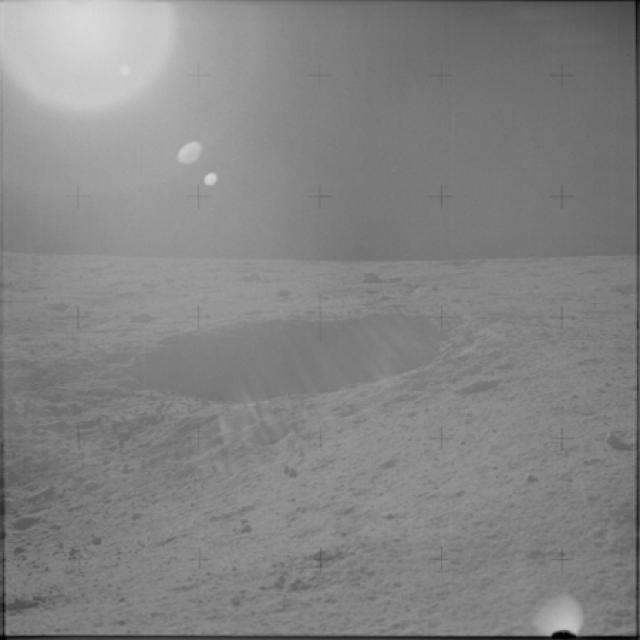crater: (108, 298, 486, 418), (242, 421, 303, 454)
rock: (582, 421, 636, 458), (120, 307, 158, 327), (48, 295, 78, 320), (353, 270, 386, 288)
